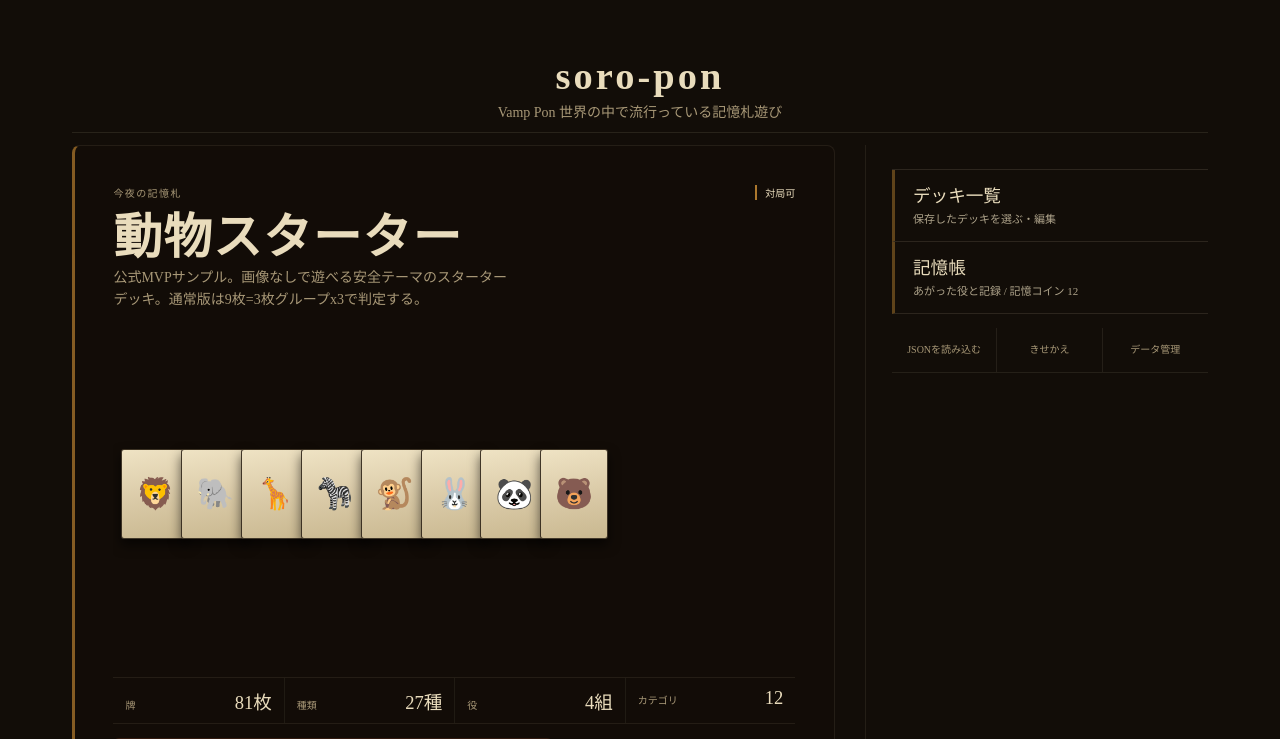
Test: TopScreen interaction hierarchy › 初期化をやめるとデータ管理へ戻り、保守コンテキストを失わない
The image size is (1280, 739).
Click the button "データ管理" at (1155, 350), box 1103,328 -> 1208,372
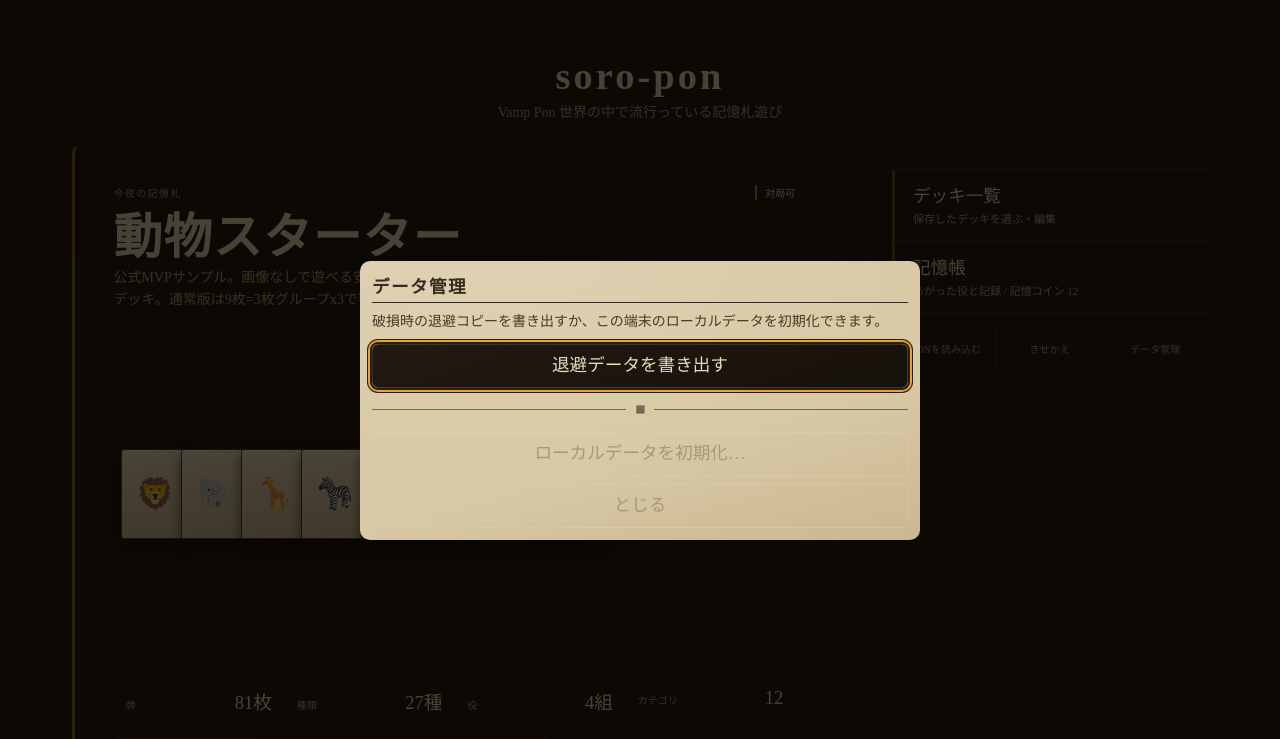
Click the button "ローカルデータを初期化…" at (640, 454), box 372,432 -> 908,476
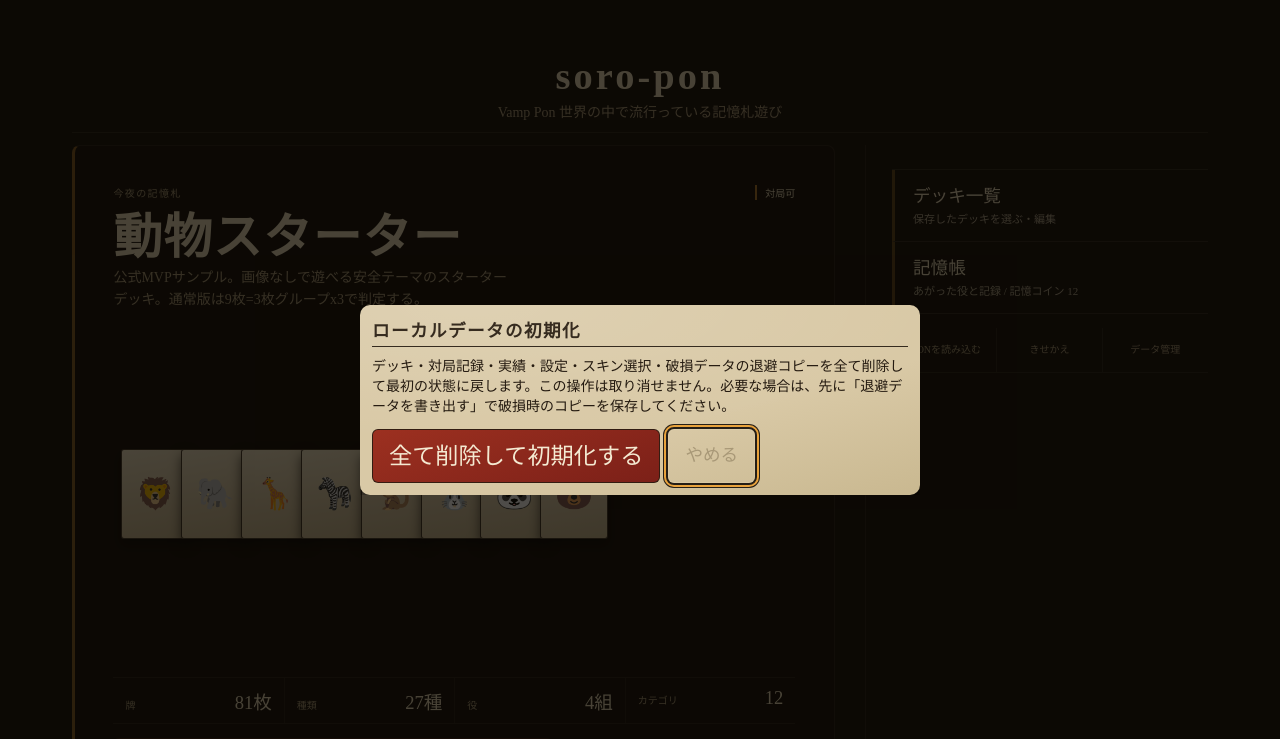
Click the button "やめる" at (712, 456), box 668,429 -> 755,483
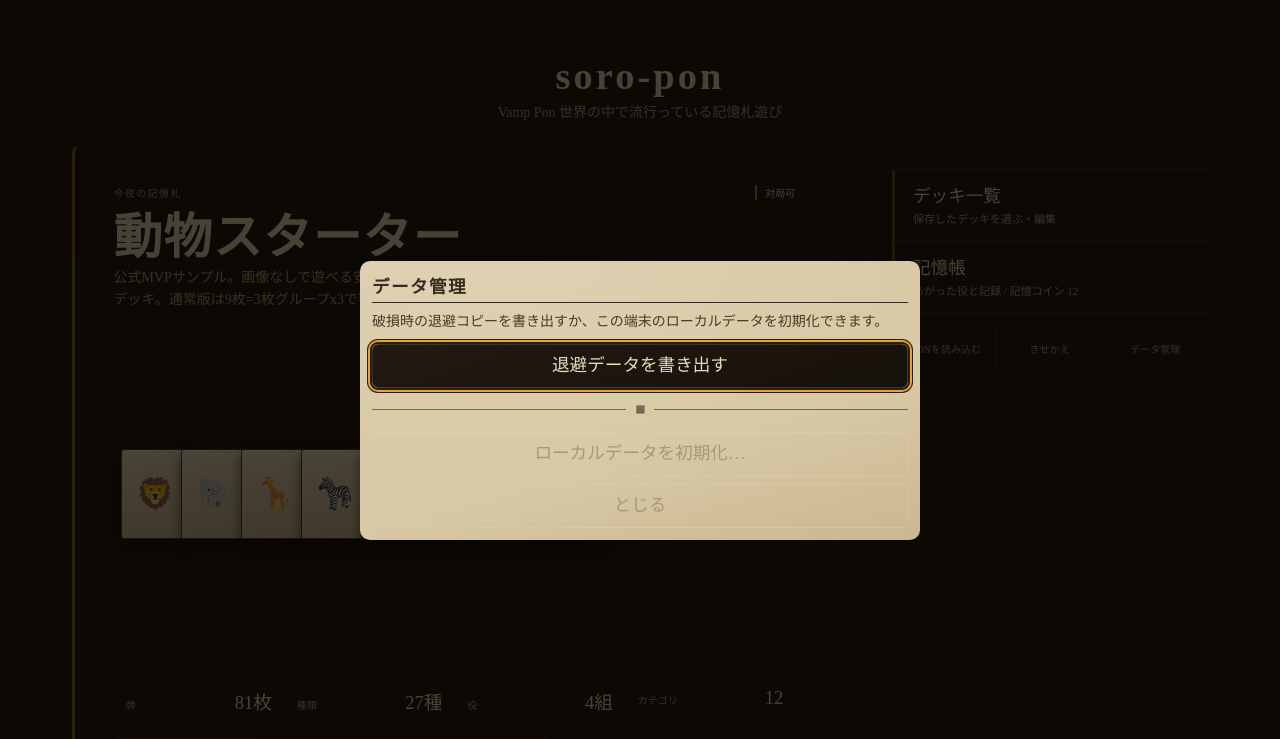
Check: the number of dialogs is 1, box 360,260 -> 920,540
Check: the text "ローカルデータの初期化" is gone
